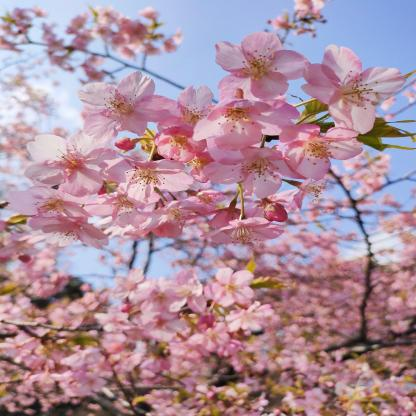Someiyoshino: (2, 0, 415, 414)
